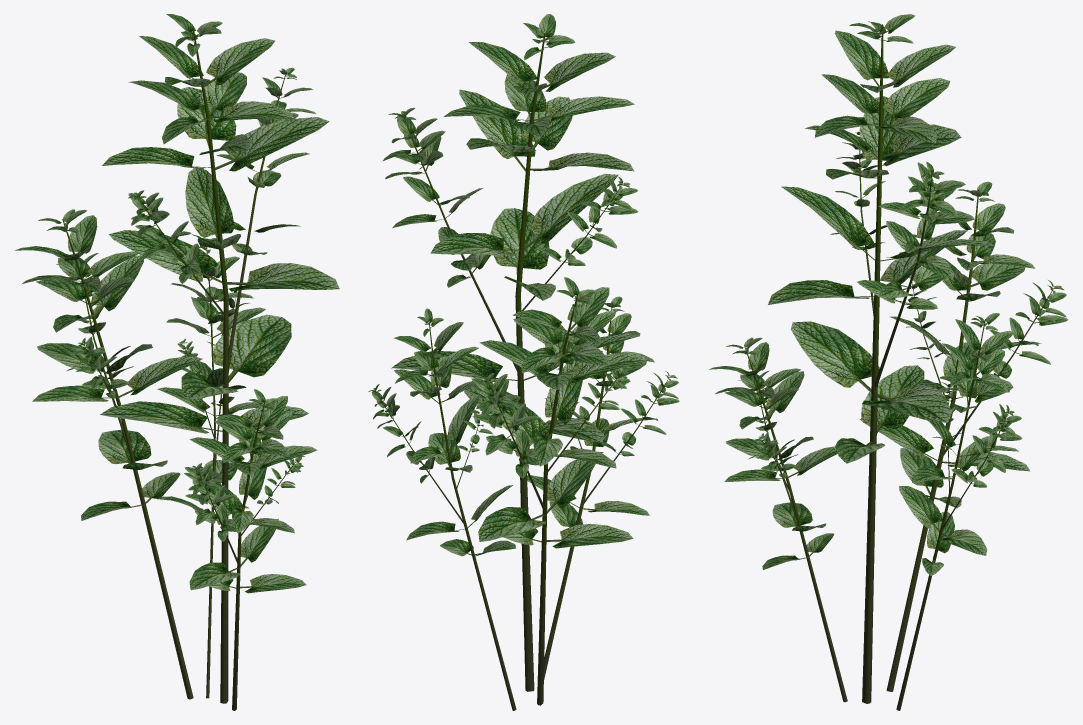
The model's file is Peppermint4.fbx.
3 views of the same model, side by side, from view 1: azimuth 30°, elevation 25°; view 2: azimuth 150°, elevation 25°; view 3: azimuth 270°, elevation 25° (orthographic).
Visible parts, largest first — view 1: Peppermint4; view 2: Peppermint4; view 3: Peppermint4.
Part boxes in pixels (left/top/right/bottom): Peppermint4: left=15, top=14, right=339, bottom=710; Peppermint4: left=368, top=14, right=679, bottom=710; Peppermint4: left=709, top=14, right=1068, bottom=710.
Bounding box in the file's own units: 39.8 × 103 × 49.45.
